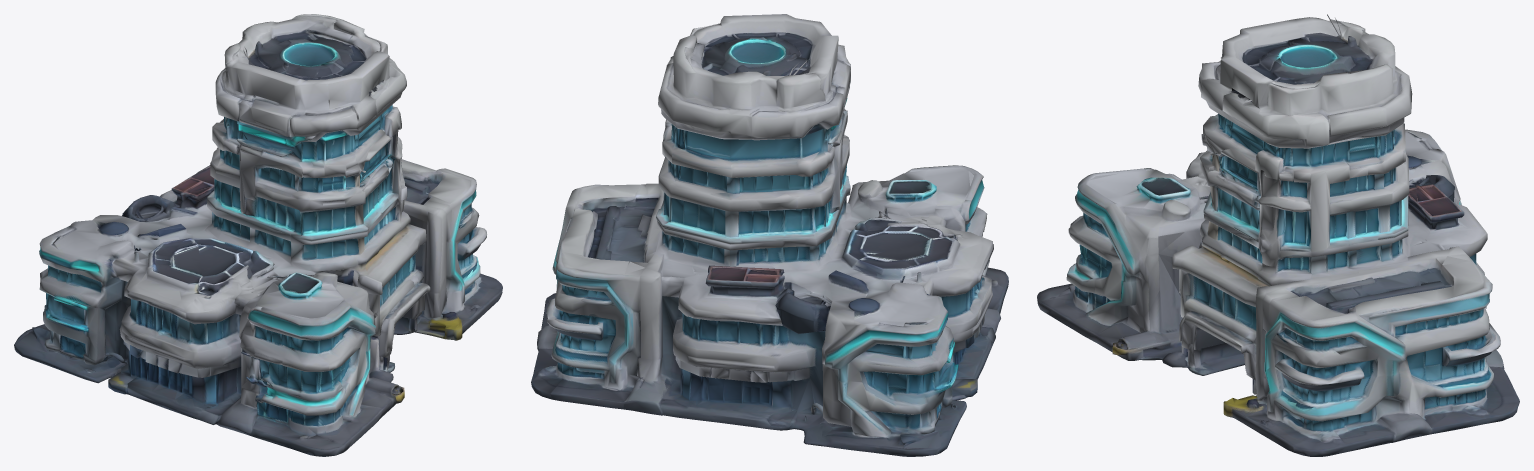
File: bld_acad_block.fbx
The picture shows the model from 3 angles, left to right: view 1: azimuth 30°, elevation 25°; view 2: azimuth 150°, elevation 25°; view 3: azimuth 270°, elevation 25°; orthographic projection. The views are drawn at different scales.
Visible parts, largest first — view 1: bld_acad_block_LOD0; view 2: bld_acad_block_LOD0; view 3: bld_acad_block_LOD0.
Boxes of the visible parts, x1,y1,x2,y2 form: bld_acad_block_LOD0: (14, 14, 502, 456); bld_acad_block_LOD0: (531, 14, 1008, 456); bld_acad_block_LOD0: (1037, 14, 1519, 456).
Size of what is drawn, in the model's own units: 0.9807 by 0.6488 by 0.9023.
